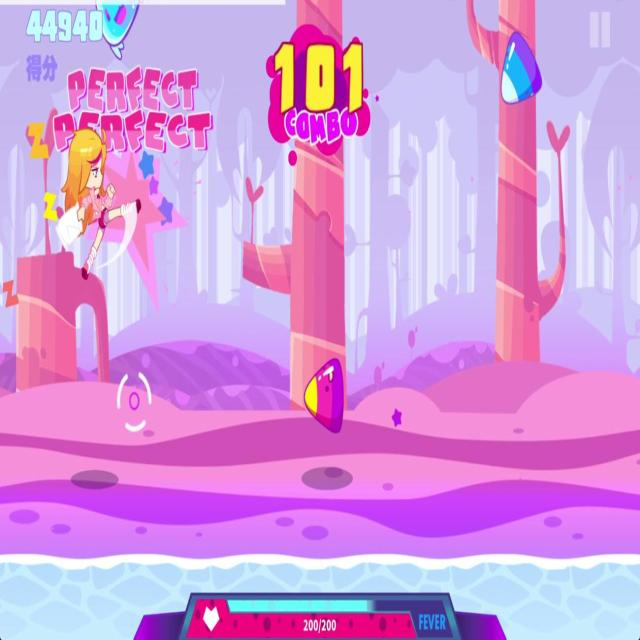jian: (498, 22, 545, 112), (303, 352, 347, 438)
mao: (94, 1, 142, 62)
